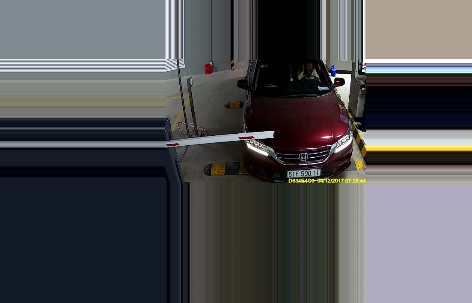plate: (285, 168, 322, 177)
